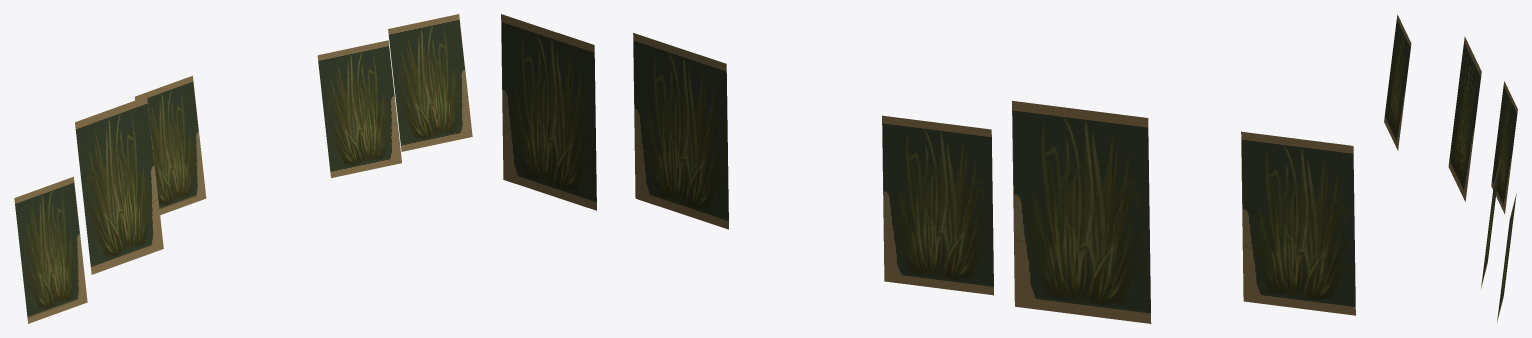
File: object_grass_polys03.fbx
3 views of the same model, side by side, from view 1: azimuth 30°, elevation 25°; view 2: azimuth 150°, elevation 25°; view 3: azimuth 270°, elevation 25° (orthographic). The views are drawn at different scales.
Parts seen in each view (by area): view 1: Material_#238683980/town_grass_mat; view 2: Material_#238683980/town_grass_mat; view 3: Material_#238683980/town_grass_mat.
Boxes of the visible parts, box(x1,y1,x2,y2) form: Material_#238683980/town_grass_mat: box(14, 14, 472, 323); Material_#238683980/town_grass_mat: box(501, 14, 1355, 323); Material_#238683980/town_grass_mat: box(1384, 14, 1517, 322).
Bounding box in the file's own units: 9.87 × 2.72 × 2.57.
